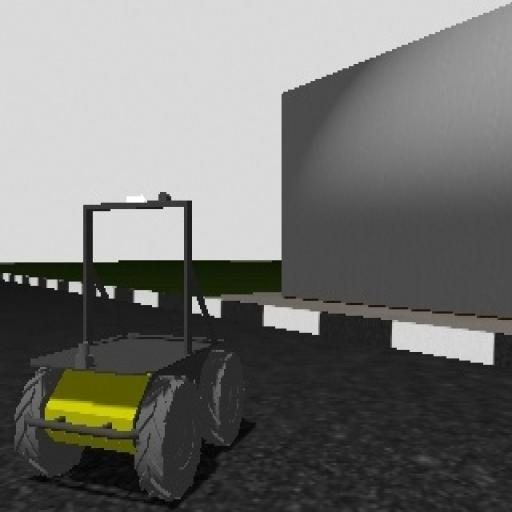huskya200: (2, 174, 253, 506)
